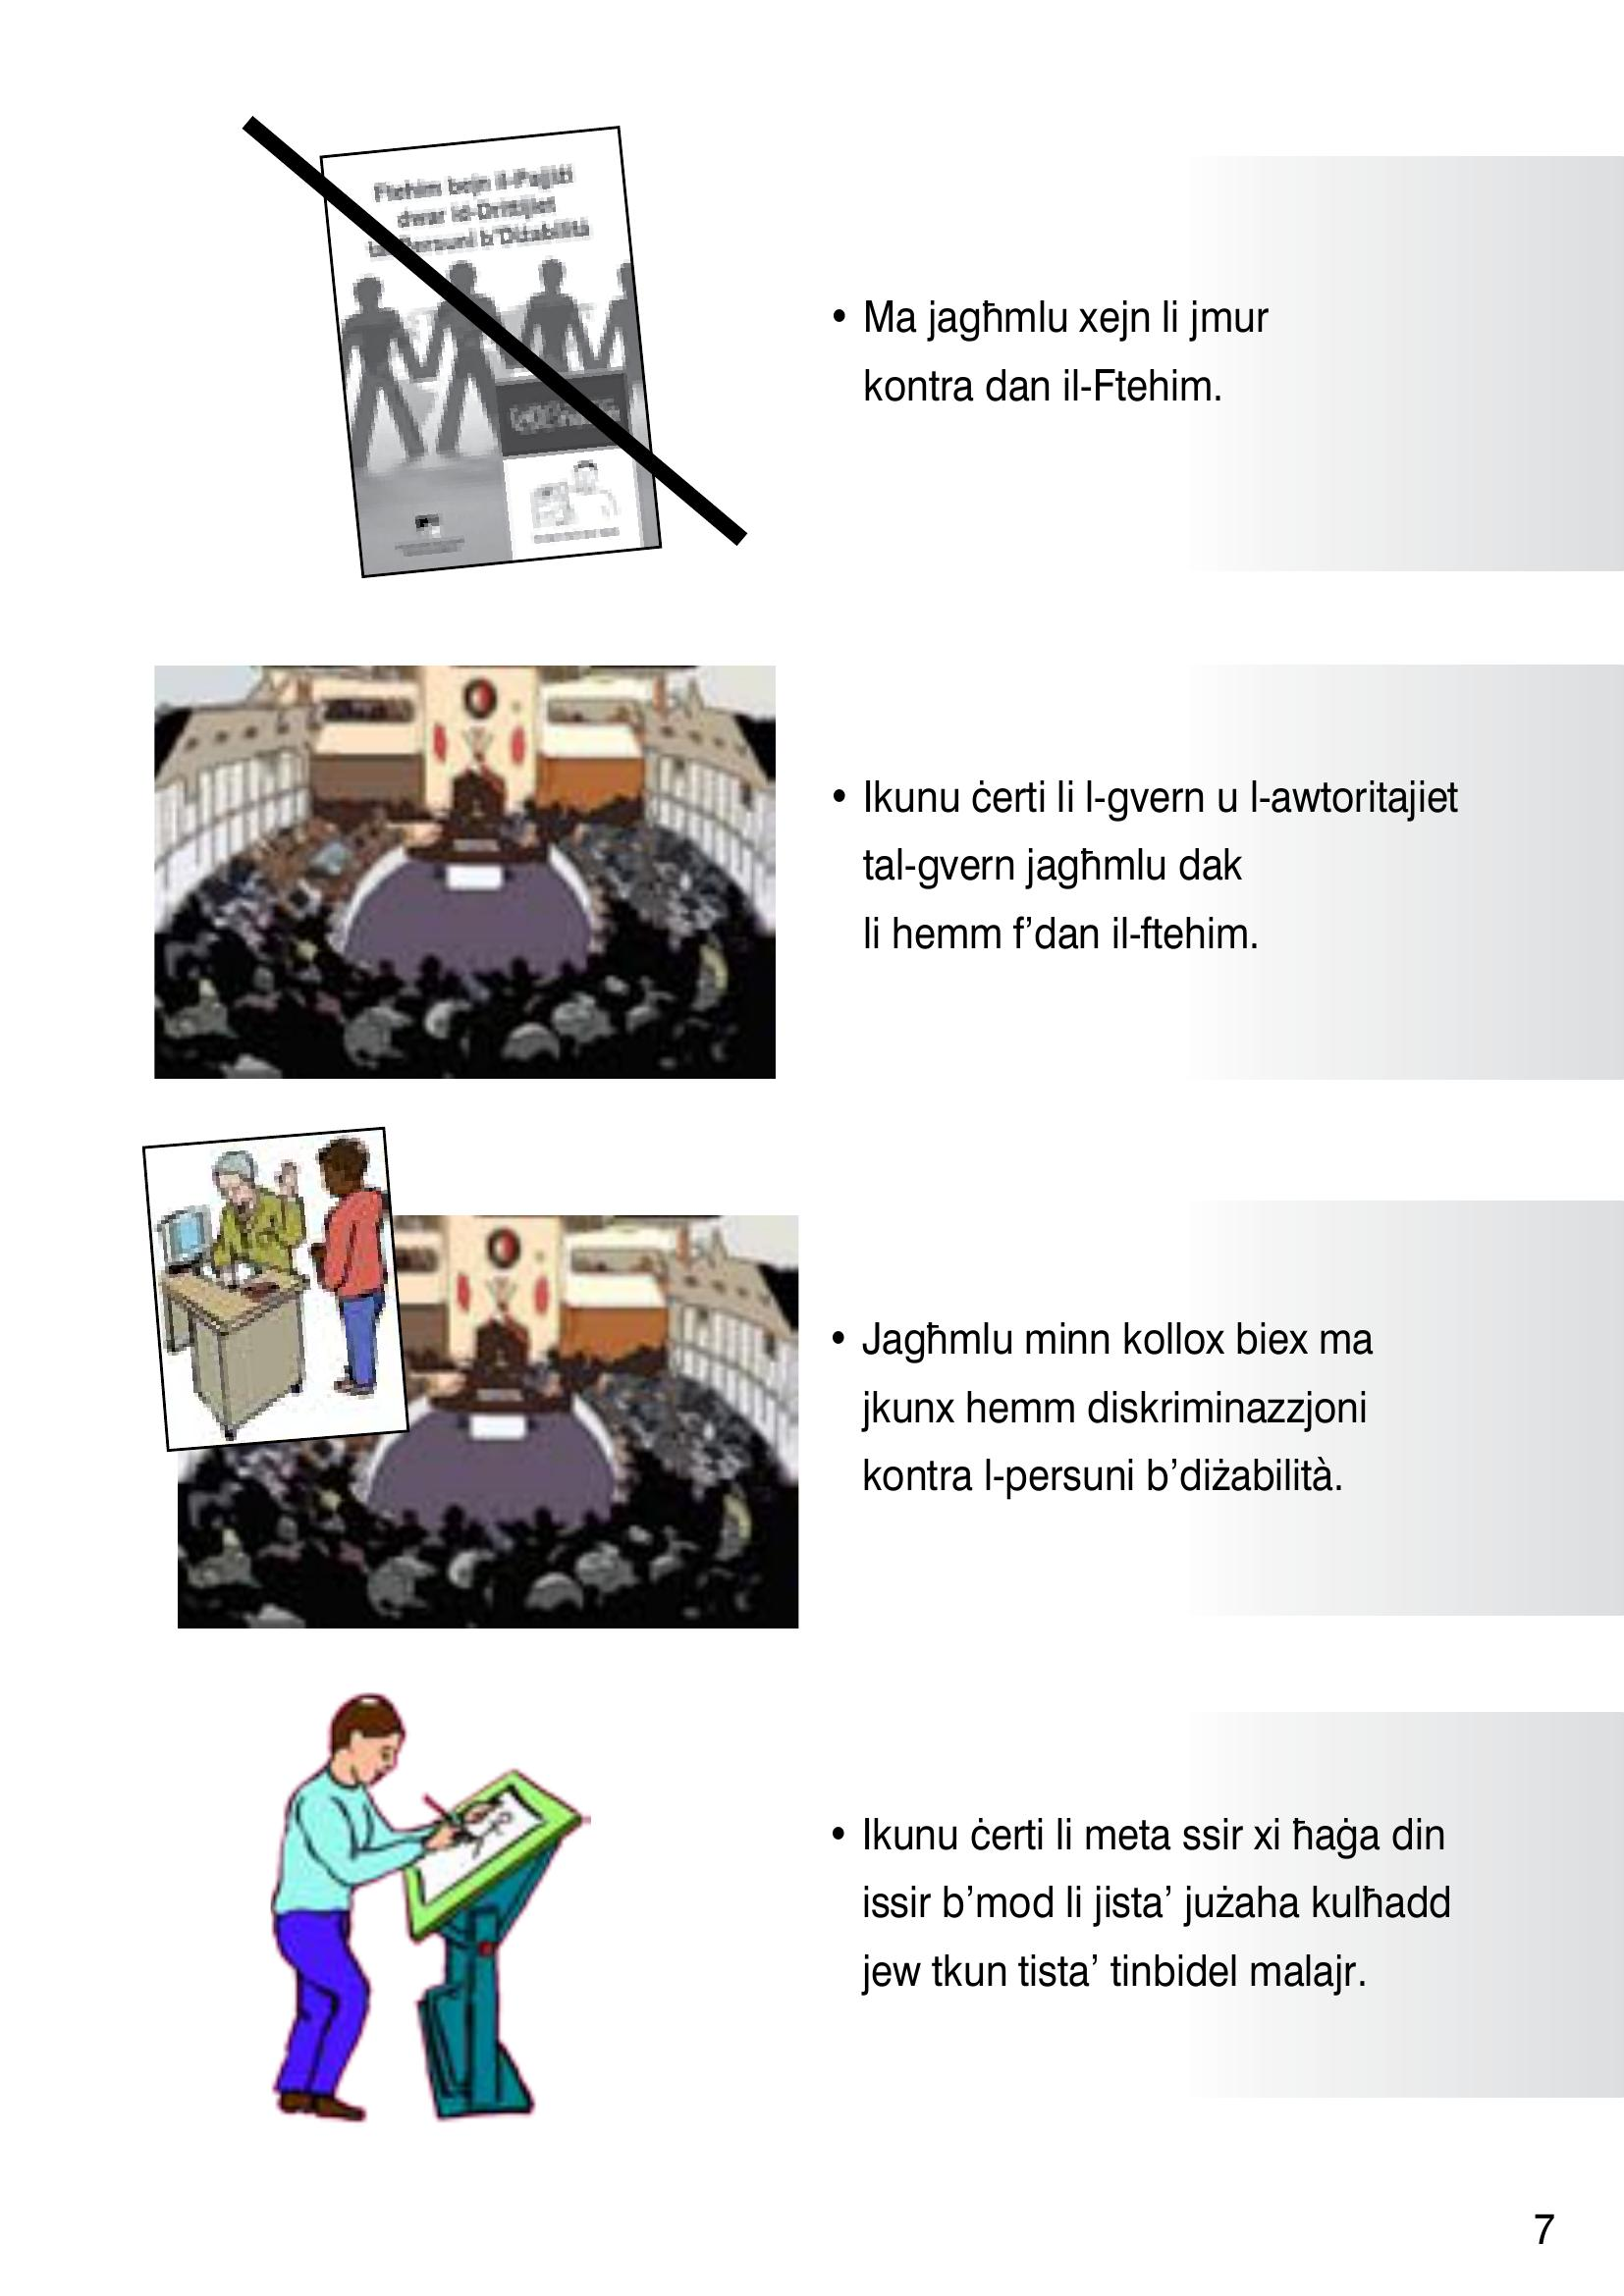text: (814, 255, 1510, 2024)
